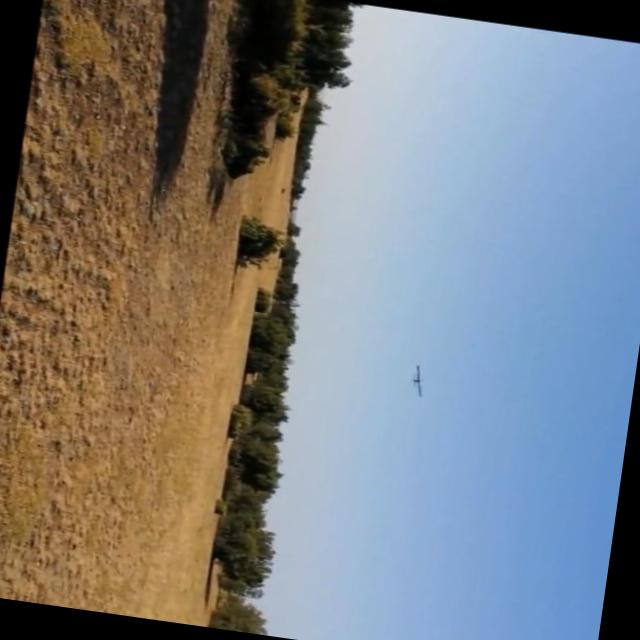UAV: (369, 324, 446, 414)
